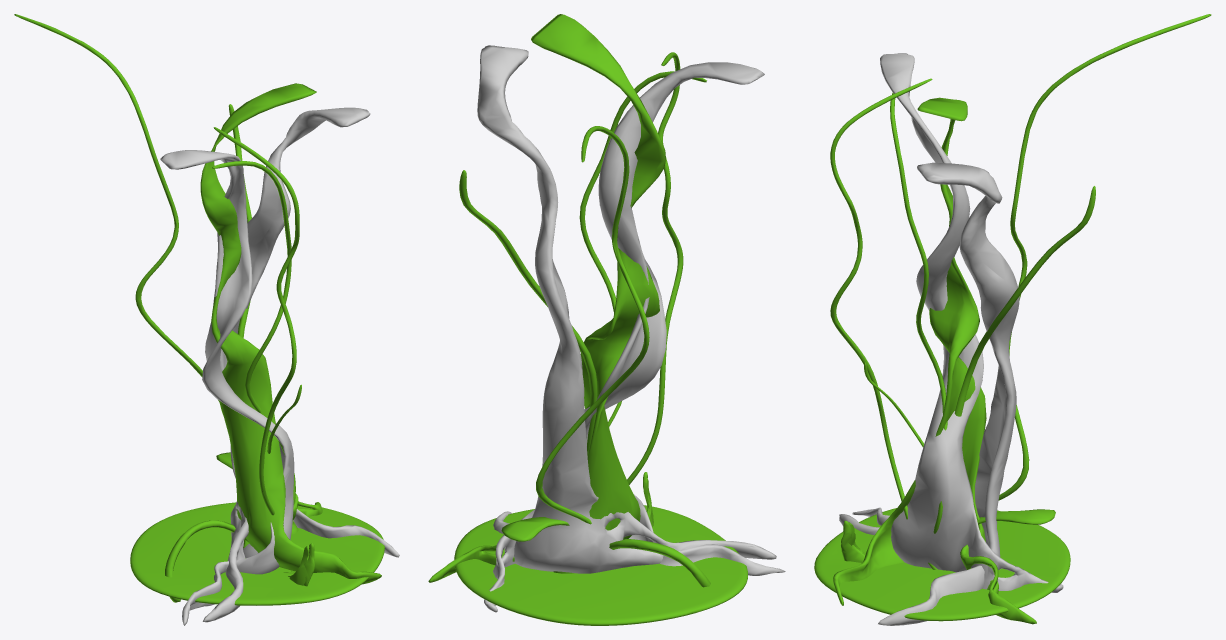
The model's file is jforestPasta.FBX.
3 views of the same model, side by side, from view 1: azimuth 30°, elevation 25°; view 2: azimuth 150°, elevation 25°; view 3: azimuth 270°, elevation 25° (orthographic). The views are drawn at different scales.
Visible parts, largest first — view 1: jforestPasta_02_LOD0, jforestFilm_big_LOD0, jforestPasta_01_LOD0, jforestPasta_03_LOD0, jforestPasta_lian_01_LOD0, jforestPasta_lian_03_LOD0, jforestPasta_lian_02_LOD0, jforesTrunkDead_01_LOD0, jforestTrunk_big_LOD0; view 2: jforestPasta_03_LOD0, jforestFilm_big_LOD0, jforestPasta_02_LOD0, jforestPasta_01_LOD0, jforestPasta_lian_01_LOD0, jforestPasta_lian_03_LOD0, jforestTrunk_big_LOD0, jforestPasta_lian_02_LOD0, jforesTrunkDead_01_LOD0, jforestPastaBranch_01_LOD0; view 3: jforestPasta_01_LOD0, jforestPasta_03_LOD0, jforestFilm_big_LOD0, jforestPasta_02_LOD0, jforestPasta_lian_03_LOD0, jforestPasta_lian_01_LOD0, jforestPasta_lian_02_LOD0, jforestTrunk_big_LOD0, jforestPastaBranch_01_LOD0.
Part boxes in pixels (<box>): jforestPasta_02_LOD0: <box>200,83,381,584</box>; jforestFilm_big_LOD0: <box>130,502,384,605</box>; jforestPasta_01_LOD0: <box>160,150,294,625</box>; jforestPasta_03_LOD0: <box>202,107,399,622</box>; jforestPasta_lian_01_LOD0: <box>14,14,219,401</box>; jforestPasta_lian_03_LOD0: <box>213,127,299,515</box>; jforestPasta_lian_02_LOD0: <box>212,161,295,504</box>; jforesTrunkDead_01_LOD0: <box>165,520,248,602</box>; jforestTrunk_big_LOD0: <box>228,104,251,338</box>; jforestPasta_03_LOD0: <box>477,45,776,573</box>; jforestFilm_big_LOD0: <box>454,505,747,625</box>; jforestPasta_02_LOD0: <box>428,14,665,582</box>; jforestPasta_01_LOD0: <box>484,62,785,612</box>; jforestPasta_lian_01_LOD0: <box>536,126,649,524</box>; jforestPasta_lian_03_LOD0: <box>627,52,683,484</box>; jforestTrunk_big_LOD0: <box>459,170,597,455</box>; jforestPasta_lian_02_LOD0: <box>579,71,706,408</box>; jforesTrunkDead_01_LOD0: <box>609,539,710,587</box>; jforestPastaBranch_01_LOD0: <box>501,517,569,541</box>; jforestPasta_01_LOD0: <box>852,53,1063,592</box>; jforestPasta_03_LOD0: <box>839,162,1019,625</box>; jforestFilm_big_LOD0: <box>814,508,1070,621</box>; jforestPasta_02_LOD0: <box>833,97,1036,624</box>; jforestPasta_lian_03_LOD0: <box>830,78,937,569</box>; jforestPasta_lian_01_LOD0: <box>998,14,1211,500</box>; jforestPasta_lian_02_LOD0: <box>890,92,947,533</box>; jforestTrunk_big_LOD0: <box>954,186,1095,416</box>; jforestPastaBranch_01_LOD0: <box>977,509,1055,524</box>.
Size of what is drawn, in the model's own units: 52.07 by 106 by 74.53.
